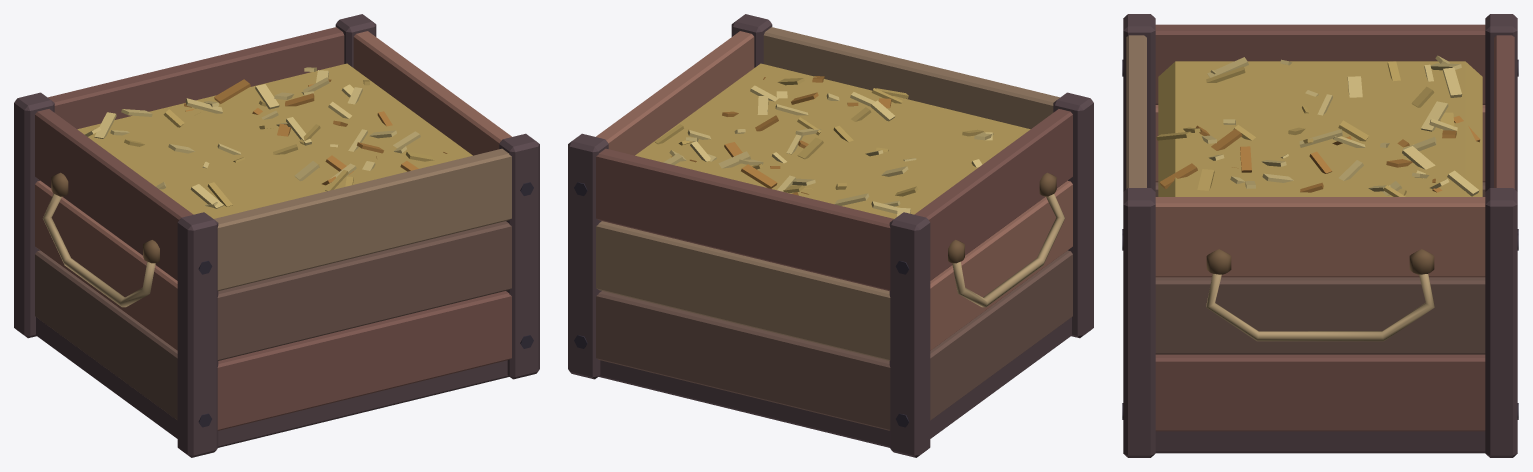
Rendered from crate.glb.
The picture shows the model from 3 angles, left to right: view 1: azimuth 30°, elevation 25°; view 2: azimuth 150°, elevation 25°; view 3: azimuth 270°, elevation 25°; orthographic projection. The views are drawn at different scales.
Visible parts, largest first — view 1: crate; view 2: crate; view 3: crate.
Part boxes in pixels (x1,y1,x2,y2): crate: [14, 14, 539, 457]; crate: [568, 14, 1093, 457]; crate: [1122, 14, 1518, 457].
Bounding box in the file's own units: 0.4993 × 0.3 × 0.4184.
